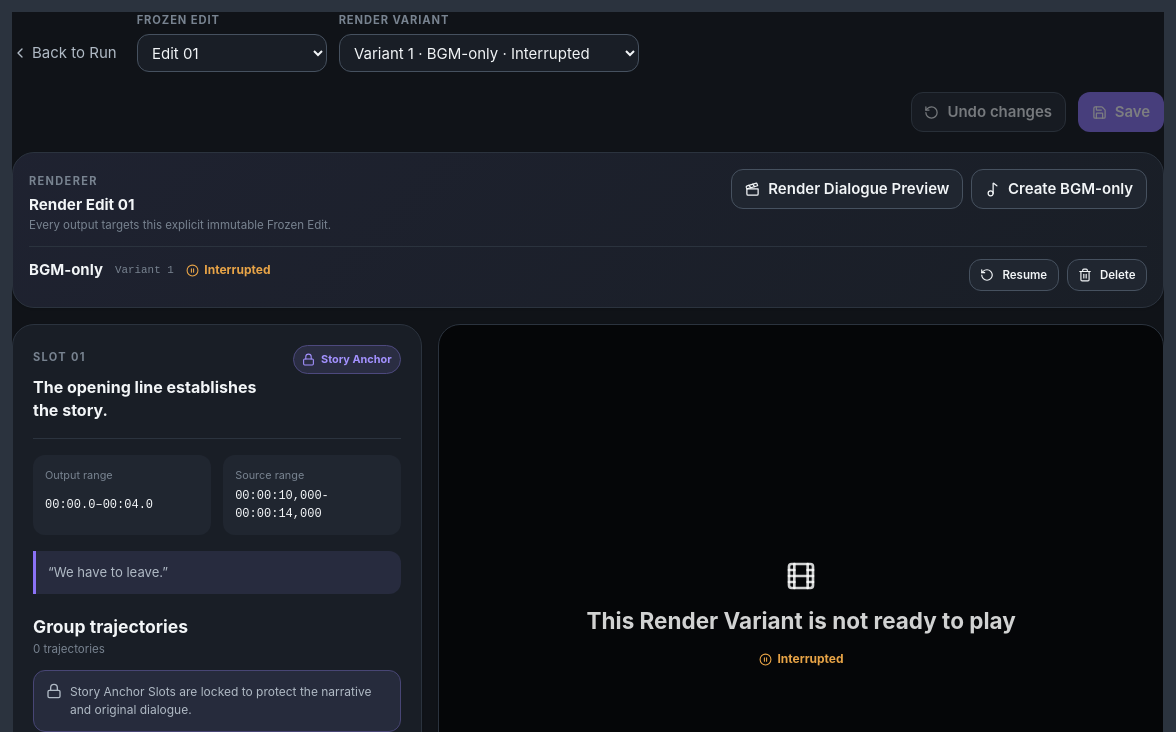
Test: Review workspace › resumes only an Interrupted Variant through its recovery endpoint
The width and height of the screenshot is (1176, 732).
Click the button "Resume". click: (1014, 275)
box: x1=969 y1=259 x2=1058 y2=291
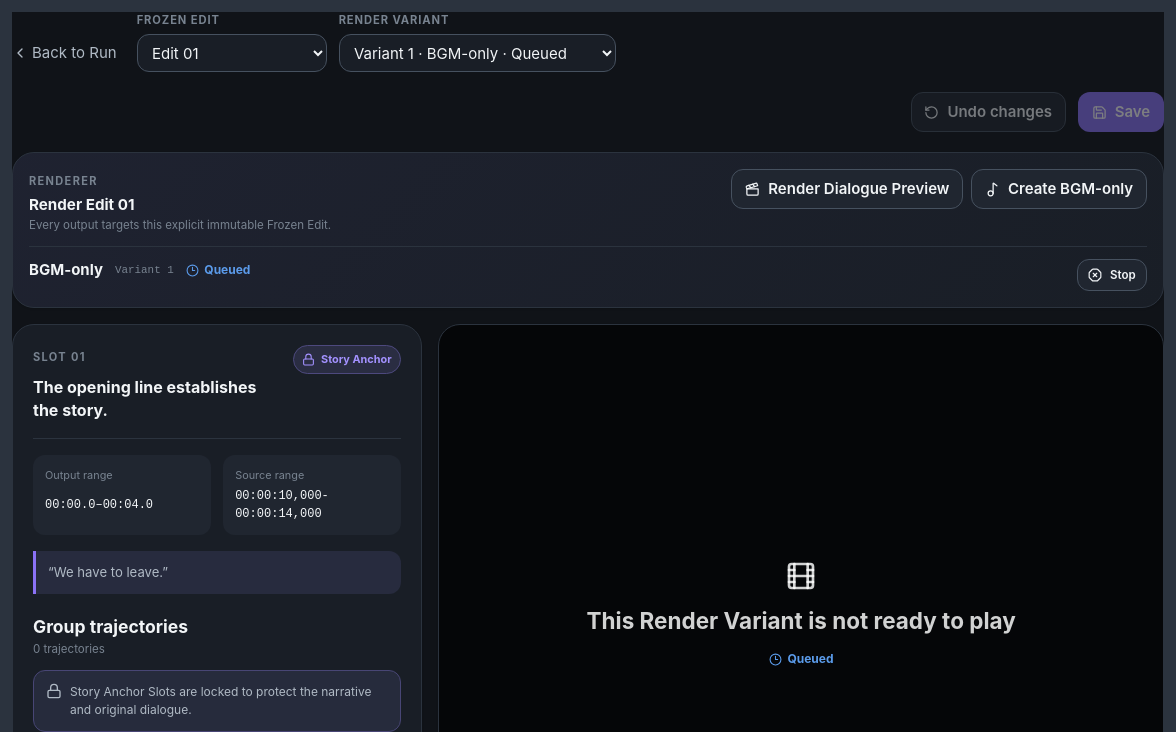
expect the text "Queued" next to "Variant 1" is shown: met, box x1=204 y1=262 x2=250 y2=277
